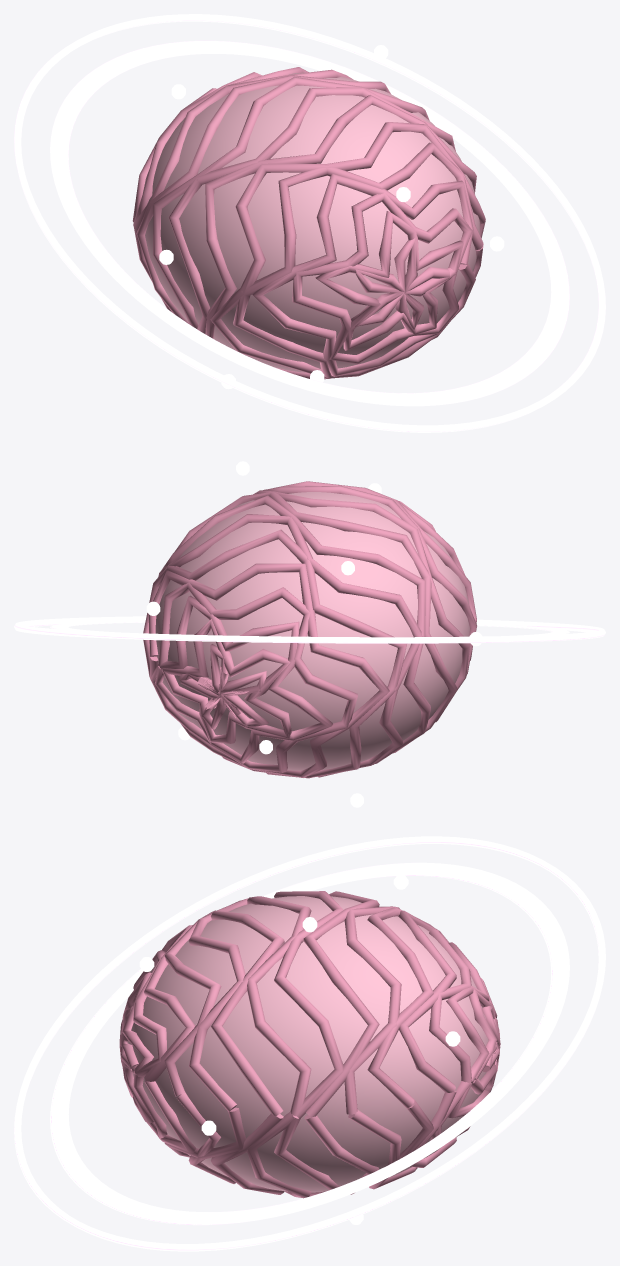
The model's file is S07_Brain_Planet.glb.
3 views of the same model, one above another, from view 1: azimuth 30°, elevation 25°; view 2: azimuth 150°, elevation 25°; view 3: azimuth 270°, elevation 25° (orthographic). The views are drawn at different scales.
Visible parts, largest first — view 1: S07_Brain_Planet_Mesh; view 2: S07_Brain_Planet_Mesh; view 3: S07_Brain_Planet_Mesh.
Boxes of the visible parts, left/top/right/bottom form: S07_Brain_Planet_Mesh: left=14, top=14, right=605, bottom=432; S07_Brain_Planet_Mesh: left=14, top=461, right=605, bottom=807; S07_Brain_Planet_Mesh: left=14, top=836, right=605, bottom=1251.
Size of the model in its own units: 11.14 by 6.4 by 10.65.
